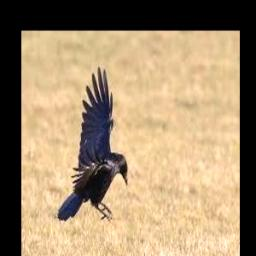Crow: (56, 67, 128, 223)
